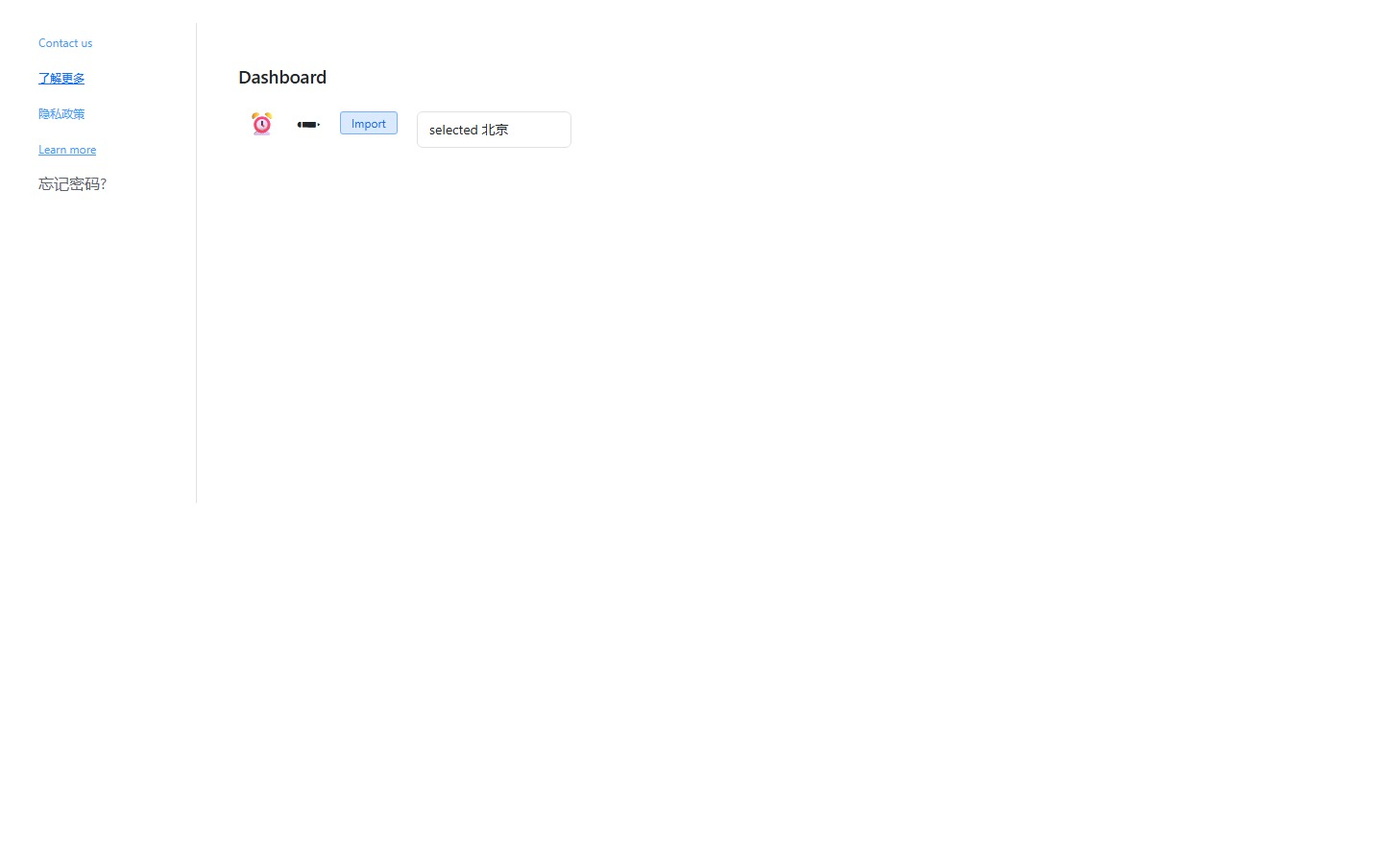button: (340, 111, 397, 134)
icon: (246, 111, 278, 134), (297, 111, 320, 134)
link: (38, 173, 107, 193), (38, 141, 96, 156), (38, 35, 92, 50), (38, 70, 85, 85), (38, 106, 85, 121)
select: (417, 111, 571, 148)
